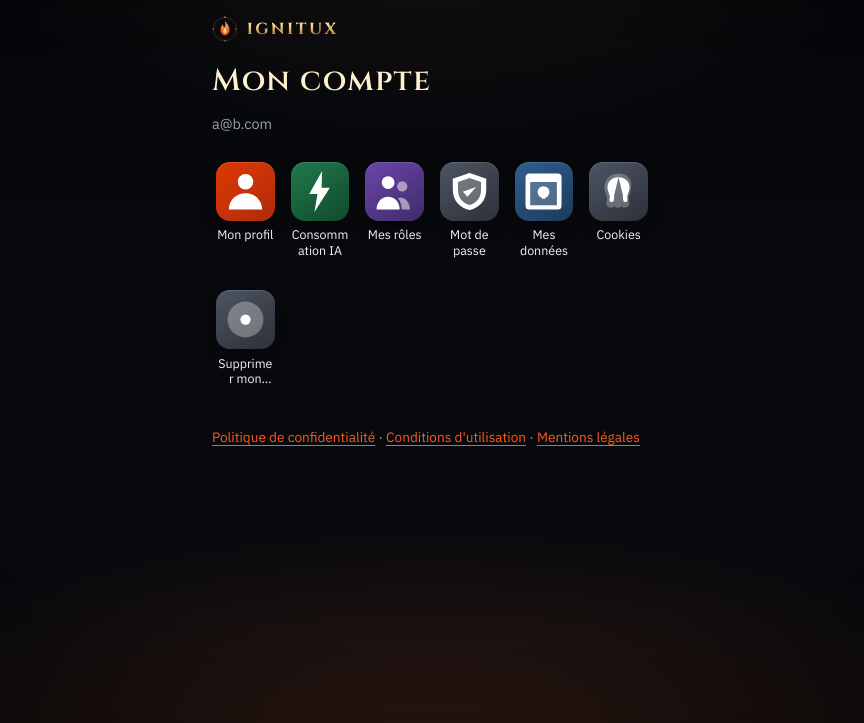
Test case: AccountPage › affiche le message d'erreur du backend si le mot de passe actuel est incorrect
This screenshot has width=864, height=723.
Click the button "Mot de passe": (469, 210) [440, 158, 499, 262]
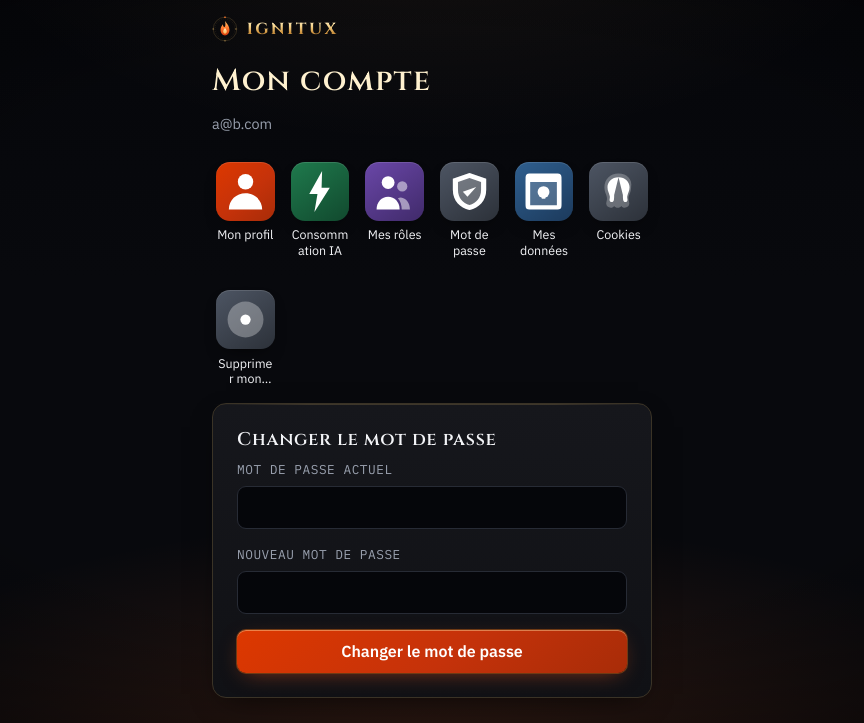
In the password field labelled "Mot de passe actuel": (432, 507) [237, 486, 627, 529], type "mauvais"
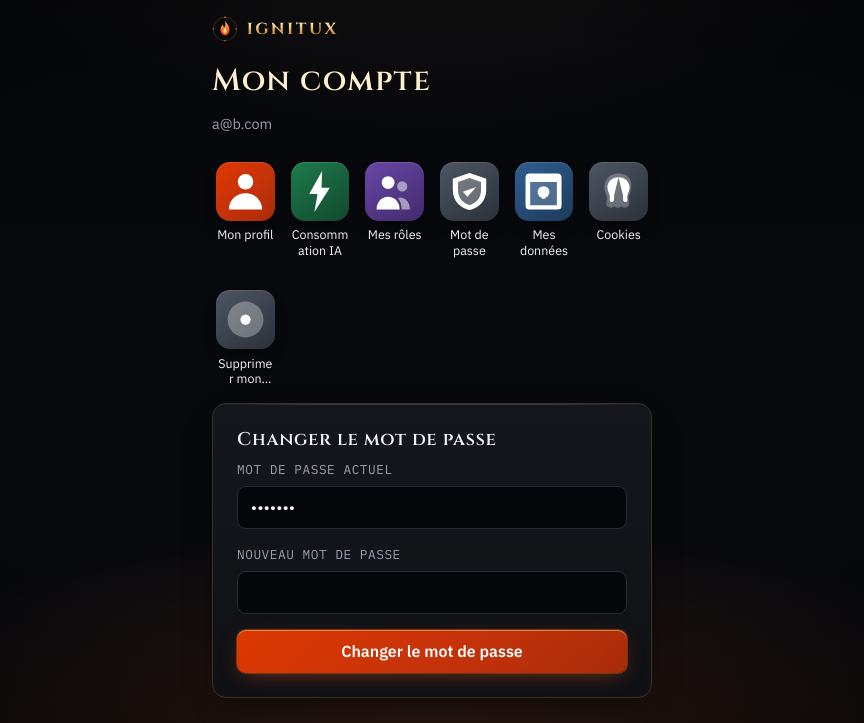
In the password field labelled "Nouveau mot de passe": (432, 592) [237, 571, 627, 614], type "nouveau123"
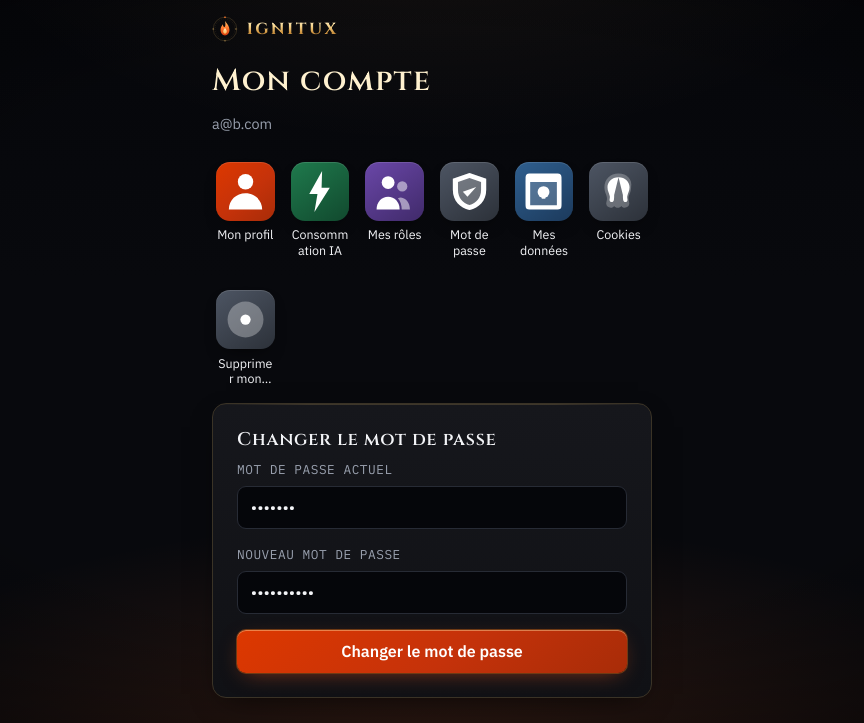
Click the button "Changer le mot de passe": (432, 651) [237, 630, 627, 673]
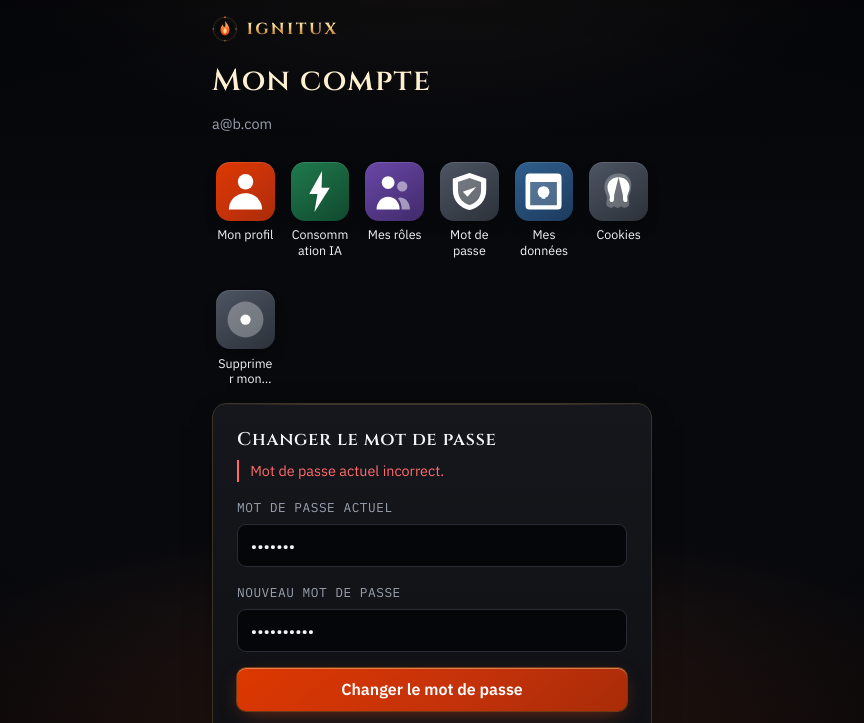
expect the text "Mot de passe actuel incorrect." is shown: met, box [237, 460, 627, 482]
